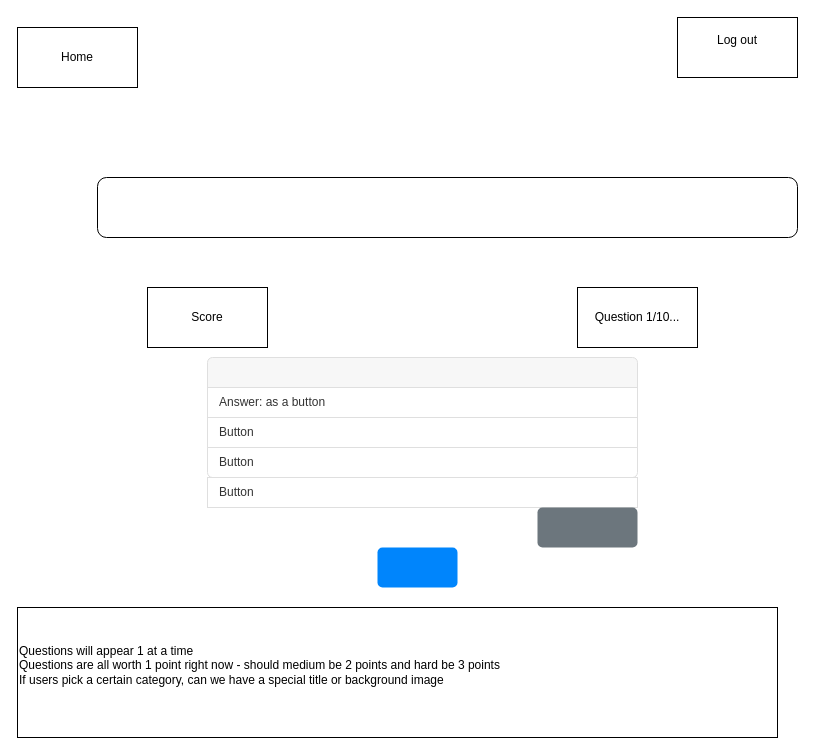
Image size: 815x755. Some labels were removed from this diagram. The centre of each missing label's shape, as x and y in pixels:
"Next Quetion" belongs at (417,567).
"Question:" belongs at (422,372).
"Save for later" belongs at (587,527).
"Title" belongs at (447,207).
